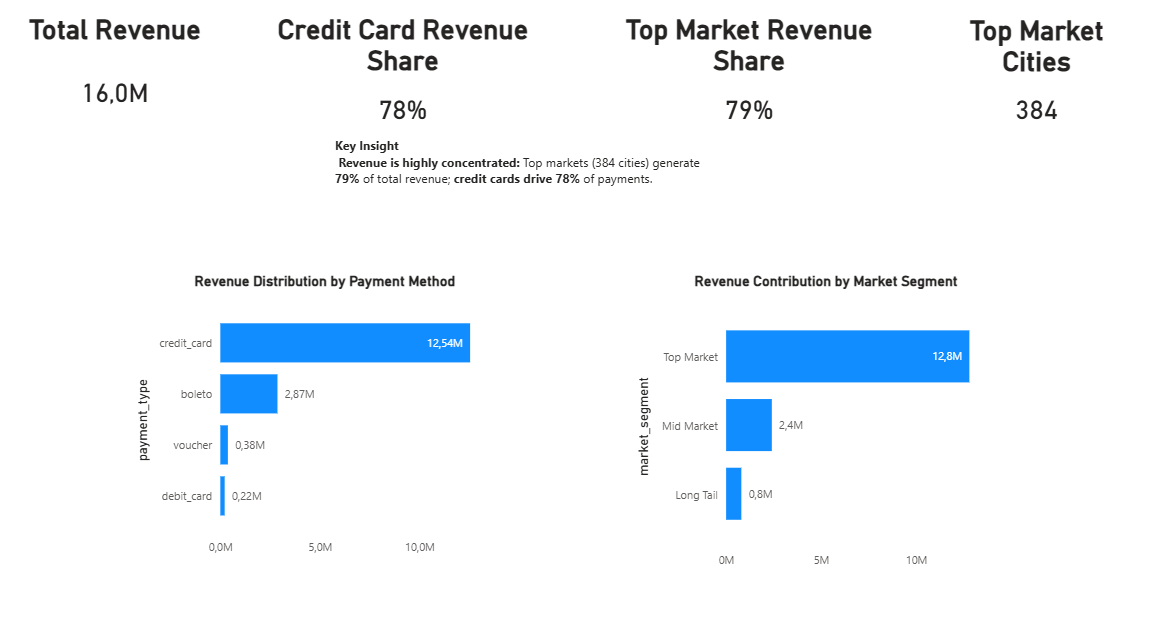

What the dashboard file says about the page in this screenshot:
{"tool":"powerbi","page":{"name":"Page 1","canvas":[1280,720],"ordinal":0},"visuals":[{"type":"card","title":"Total Revenue","fields":{"Values":["Max(executive_kpis.metric_value)"]},"box":[12.9,21.4,242.9,134.5],"z":0,"group":"g2"},{"type":"group","id":"g1","title":"Group 1","box":[150.9,307.4,977,333.4],"z":0},{"type":"group","id":"g2","title":"Group 2","box":[12.9,21.4,1254.2,134.5],"z":1000},{"type":"card","title":"Credit Card Revenue Share","fields":{"Values":["executive_kpis.Credit Card Revenue Share %"]},"box":[263.6,21.4,373.2,134.5],"z":1000,"group":"g2"},{"type":"card","title":"Top Market Revenue Share","fields":{"Values":["executive_kpis.Top market revenue Share %"]},"box":[644.6,21.4,373.2,134.5],"z":2000,"group":"g2"},{"type":"textbox","box":[370.5,153.7,414.4,70],"z":2000},{"type":"card","title":"Top Market Cities","fields":{"Values":["Max(executive_kpis.metric_value)"]},"box":[1025.6,23.5,241.5,130.4],"z":3000,"group":"g2"},{"type":"clusteredBarChart","title":"Revenue Distribution by Payment Method","fields":{"Category":["payment_method_summary.payment_type"],"Y":["Sum(payment_method_summary.total_revenue)"]},"box":[150.9,307.4,426.8,333.4],"z":4000,"group":"g1"},{"type":"clusteredBarChart","title":"Revenue Contribution by Market Segment","fields":{"Y":["Sum(market_segment_summary.total_revenue)"],"Category":["market_segment_summary.market_segment"]},"box":[701.2,307.4,426.8,333.4],"z":5000,"group":"g1"}]}

Visuals, with their boxes in screenshot pixels (x1, y1, x2, y2), scaled from the page's 1280x720 canvas onto the 1157x640 screenshot:
"Total Revenue" card: [12, 19, 231, 139]
"Group 1" group: [136, 273, 1020, 570]
"Group 2" group: [12, 19, 1145, 139]
"Credit Card Revenue Share" card: [238, 19, 576, 139]
"Top Market Revenue Share" card: [583, 19, 920, 139]
textbox: [335, 137, 709, 199]
"Top Market Cities" card: [927, 21, 1145, 137]
"Revenue Distribution by Payment Method" clusteredBarChart: [136, 273, 522, 570]
"Revenue Contribution by Market Segment" clusteredBarChart: [634, 273, 1020, 570]
